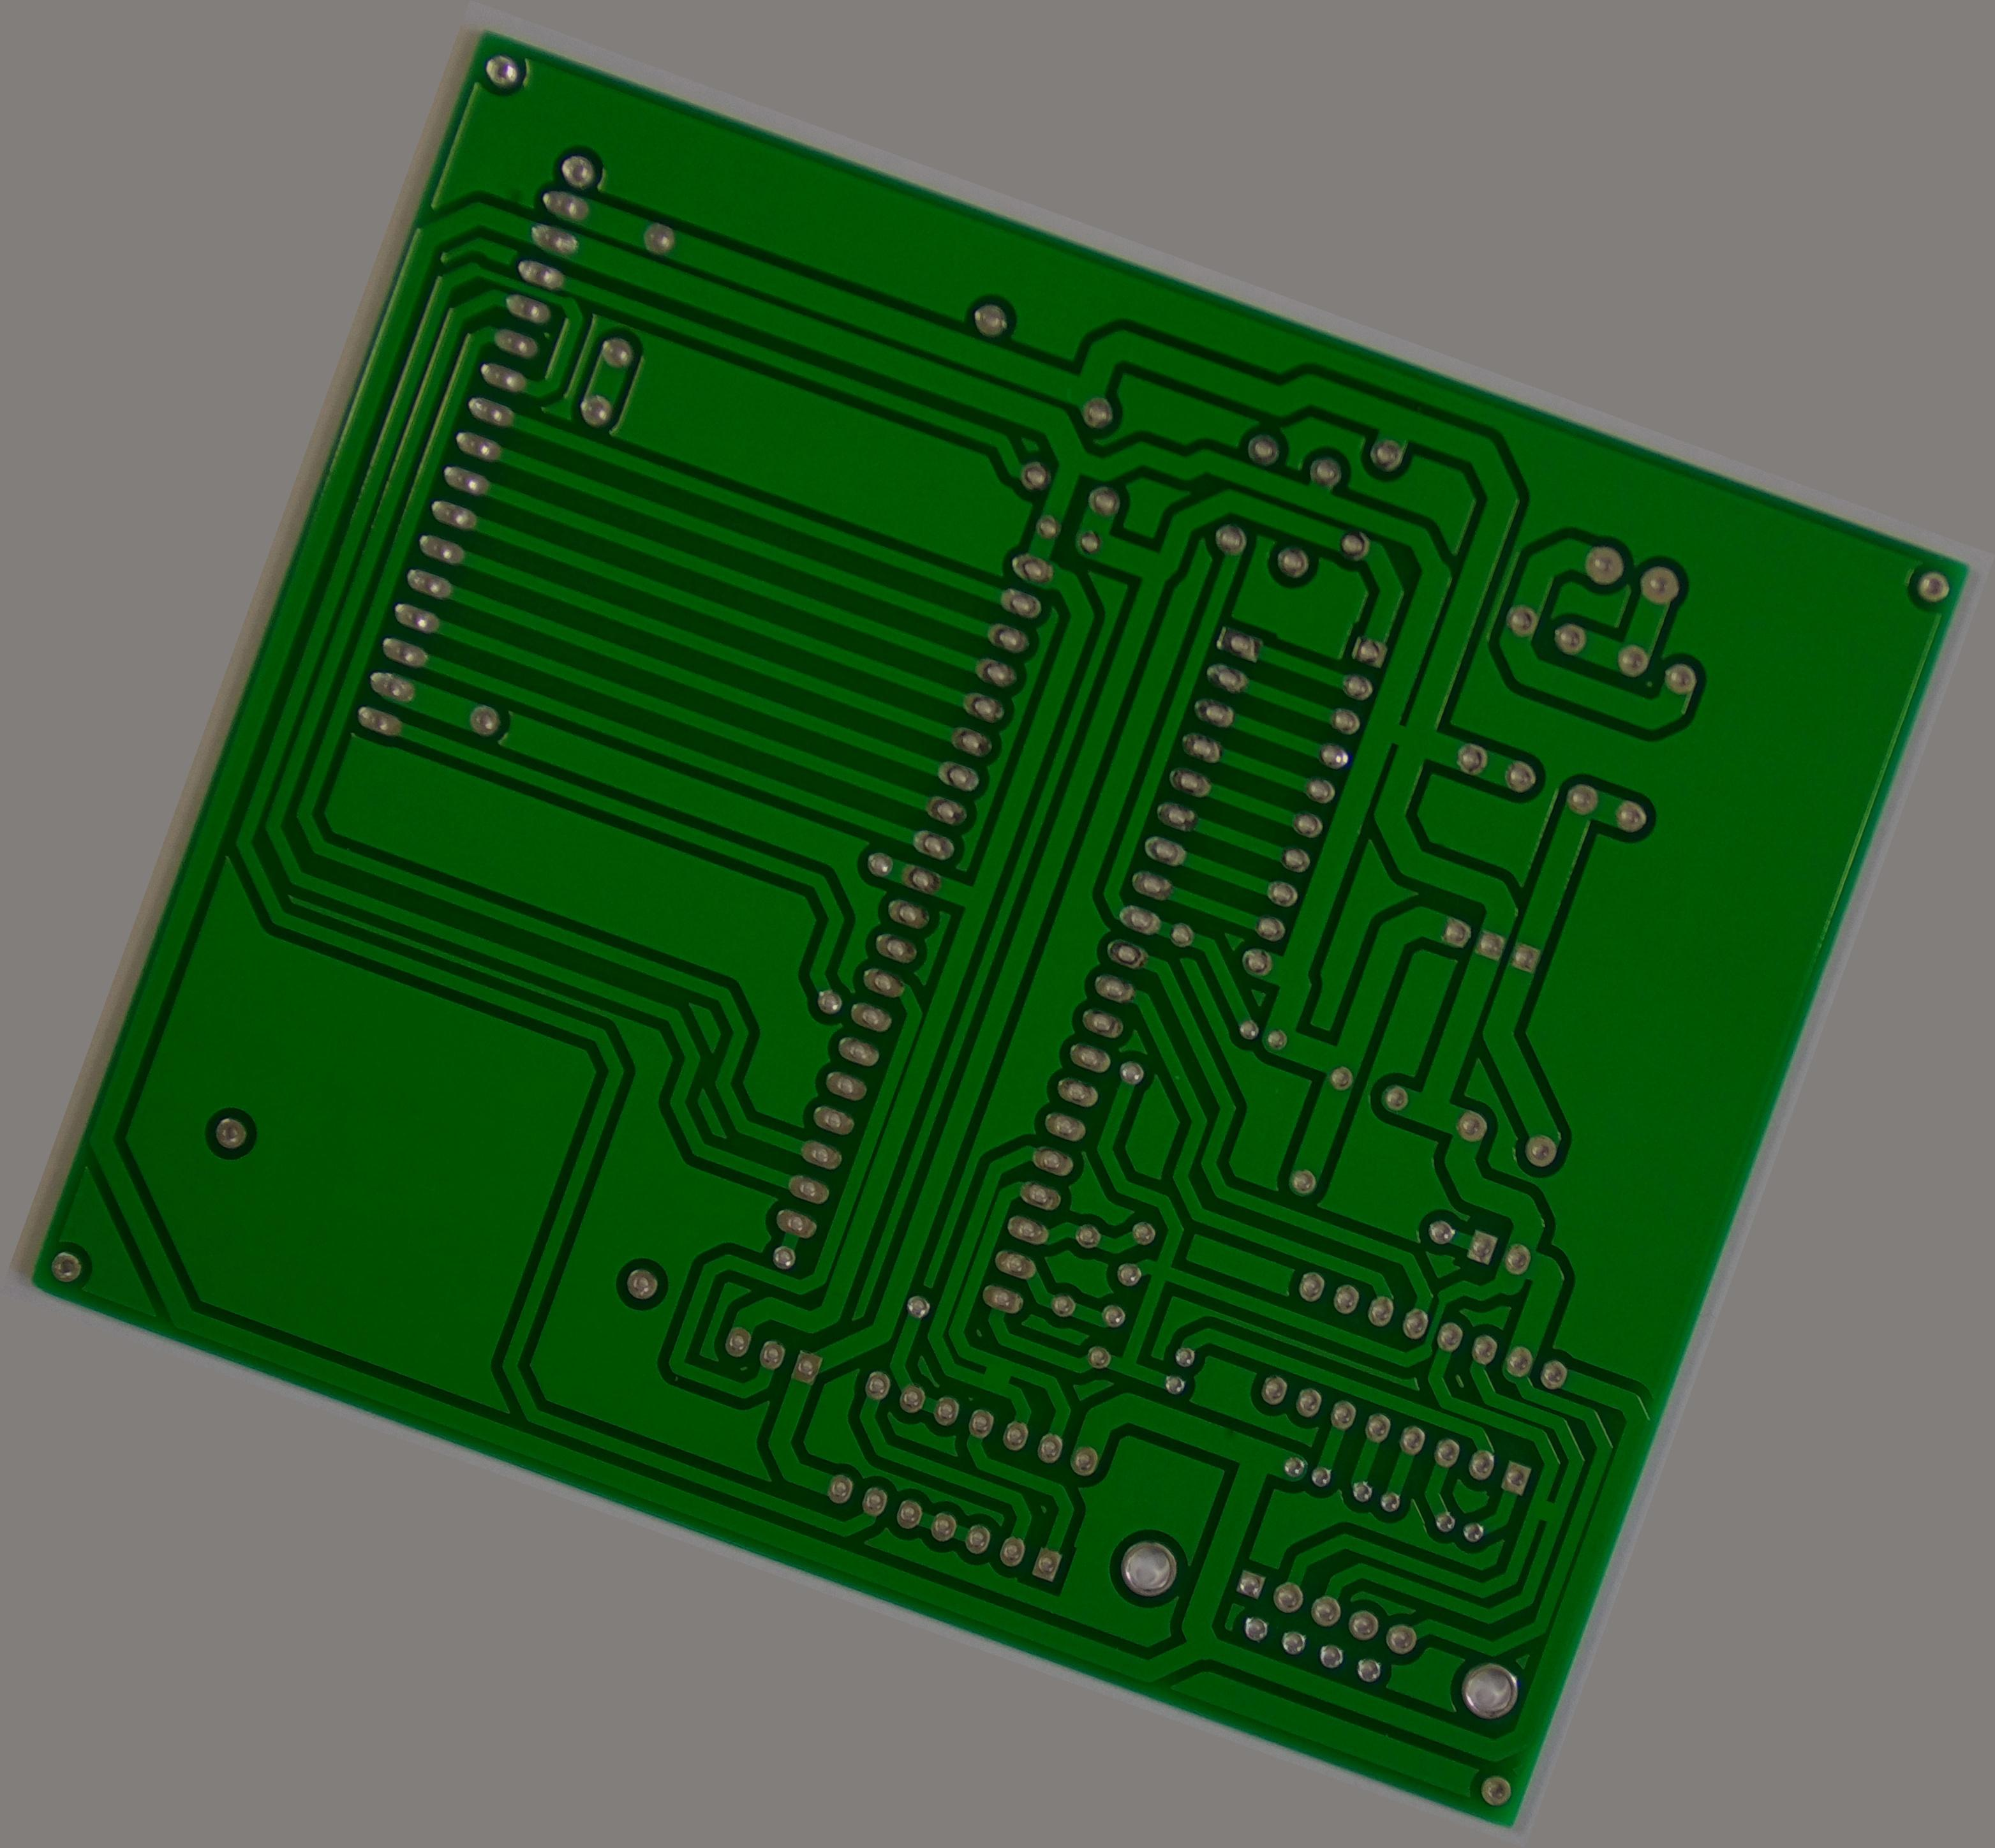short: (1354, 697, 1444, 779), (961, 1337, 1032, 1406), (1517, 1485, 1574, 1539)
